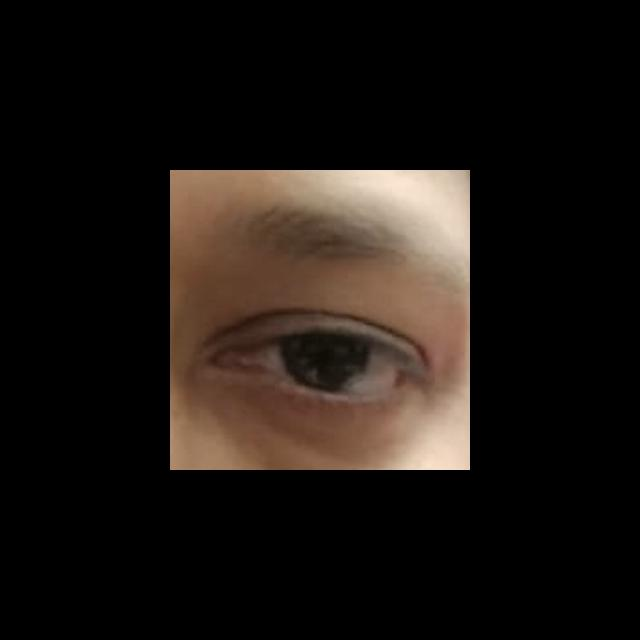eye: (242, 330, 402, 400)
iris: (281, 334, 375, 393)
